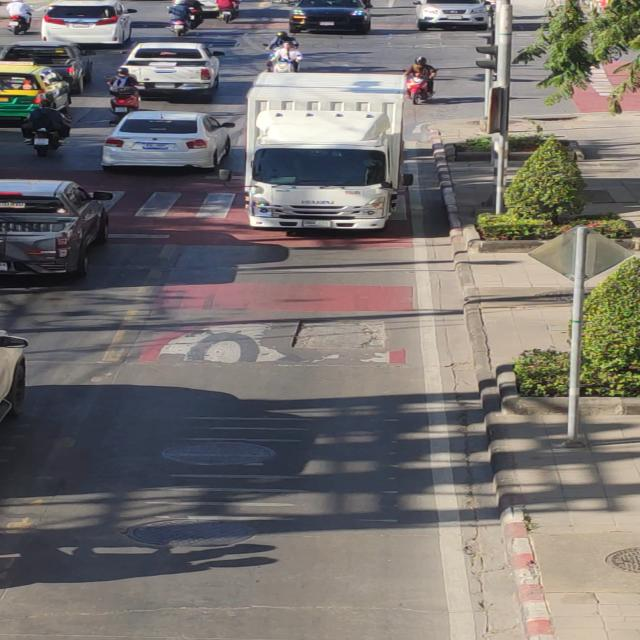car: (238, 70, 409, 238)
